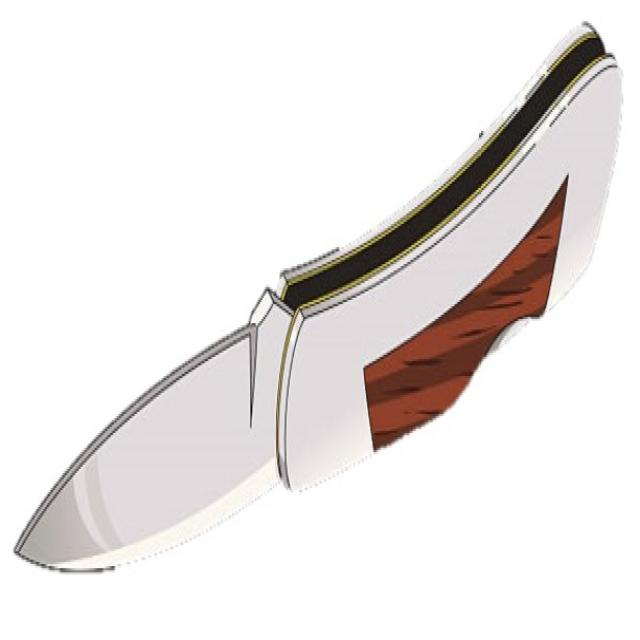knife: (13, 19, 622, 591)
